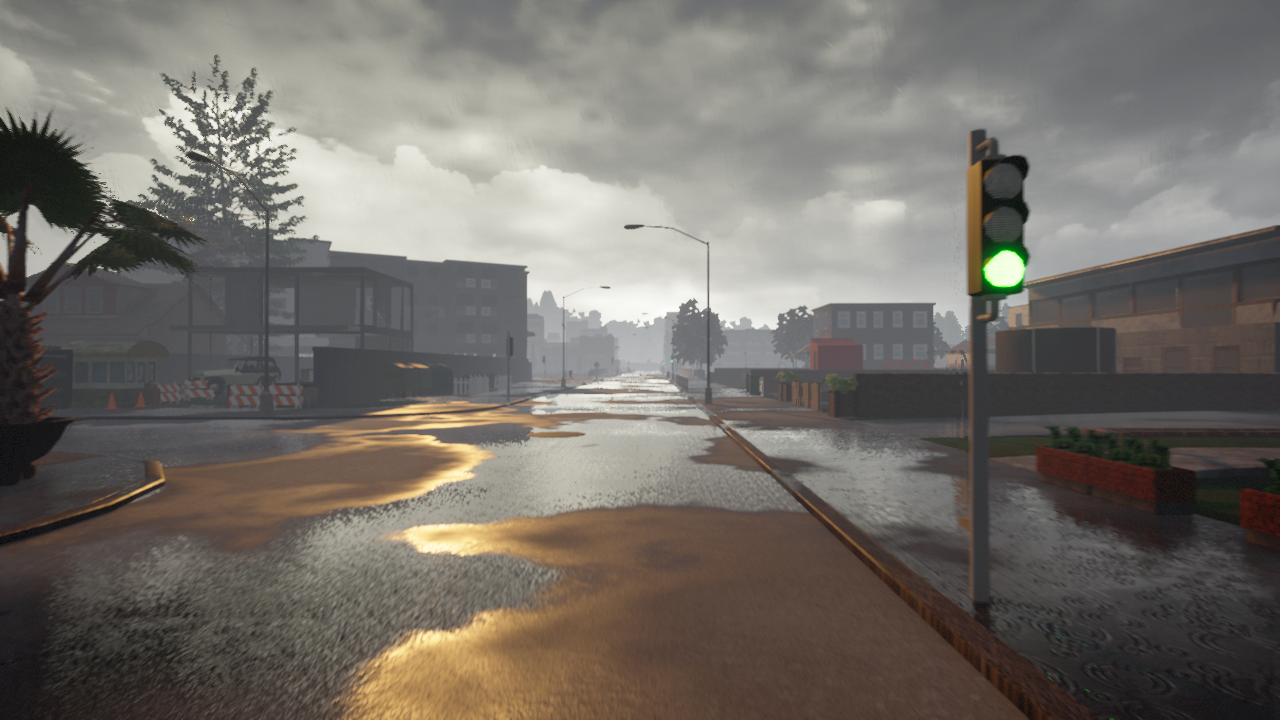green: (967, 153, 1034, 302)
